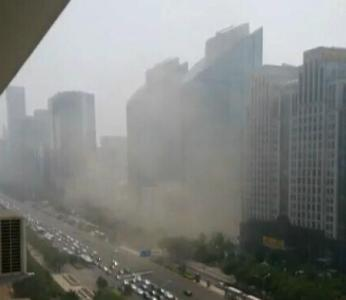smoke: (65, 73, 237, 249)
